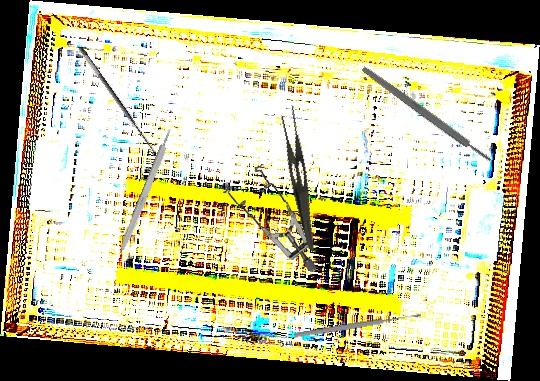Dressing Forceps: (272, 103, 331, 252)
Hook Surgical: (77, 40, 167, 160)
Scalpel Handle: (360, 64, 493, 165), (117, 128, 176, 255)
Speculum: (221, 160, 317, 280)
Surgical Spoon: (293, 311, 422, 340)
